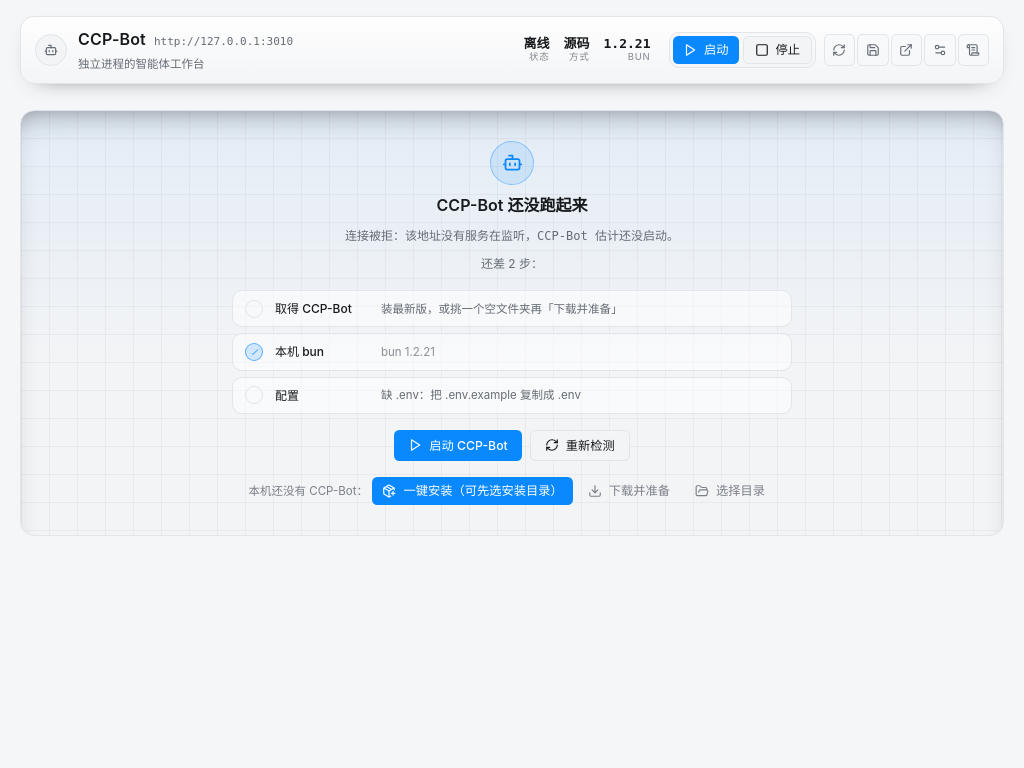
Test case: CCP-Bot 界面 › 没装过的机器由一键安装走完全程：先问装到哪，再把读回来的版本显示出来
The width and height of the screenshot is (1024, 768).
Expected: the heading "CCP-Bot 还没跑起来" is shown, x1=437 y1=193 x2=588 y2=219
Expected: the text "本机还没有 CCP-Bot：" is shown, x1=249 y1=482 x2=368 y2=500
Click the button "一键安装（可先选安装目录）": (473, 491) x1=372 y1=477 x2=573 y2=505
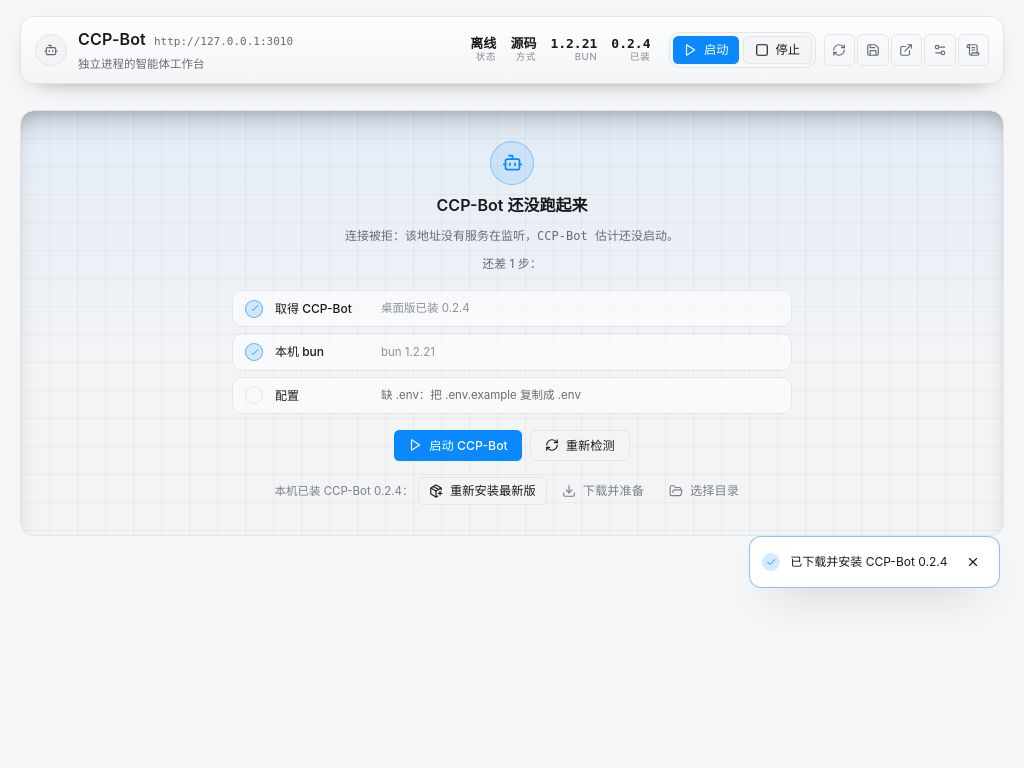
Expected: the text "本机已装 CCP-Bot 0.2.4：" is shown, x1=274 y1=482 x2=414 y2=500
Expected: the text "桌面版已装 0.2.4" is shown, x1=381 y1=302 x2=470 y2=316
